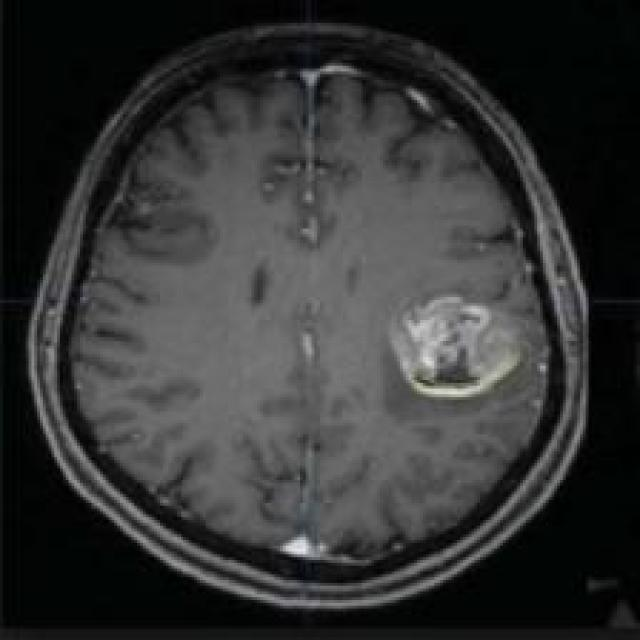Tumor: (391, 288, 526, 403)
